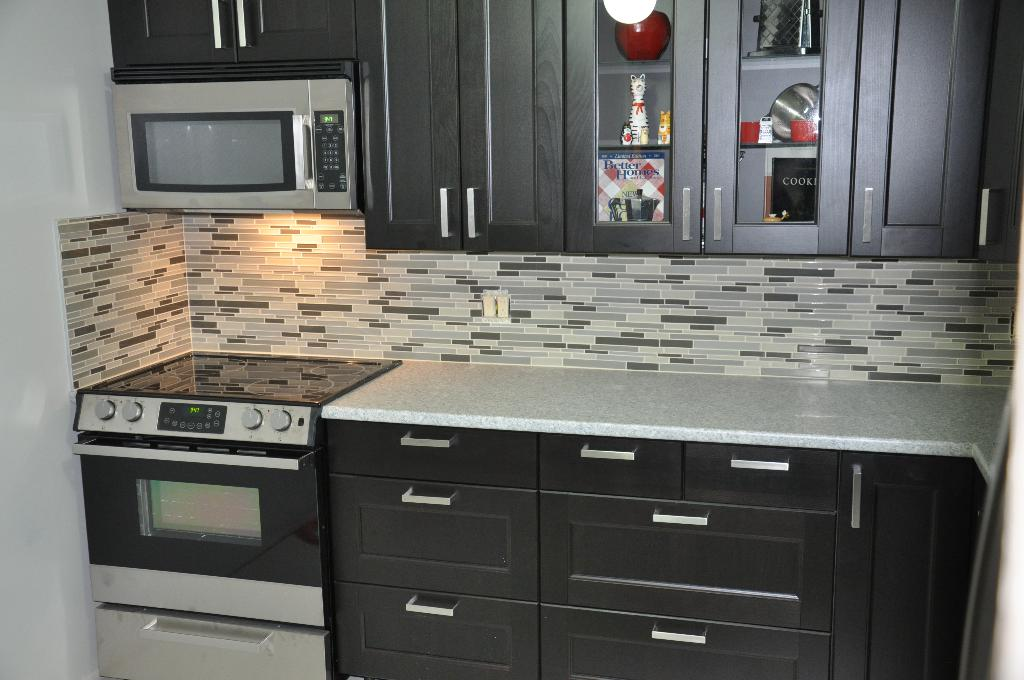cabinet door: (542, 495, 825, 620), (563, 9, 701, 250), (706, 26, 846, 250), (454, 11, 566, 247), (324, 481, 534, 597), (866, 18, 968, 241), (546, 605, 826, 680), (363, 7, 450, 241), (334, 596, 536, 679), (332, 420, 531, 485), (541, 433, 675, 494), (986, 39, 1024, 254), (230, 9, 354, 67), (689, 446, 809, 502), (113, 2, 226, 61), (841, 475, 873, 678)
handle: (71, 437, 302, 476), (648, 501, 713, 536), (728, 452, 802, 479), (843, 461, 870, 532), (396, 483, 463, 511), (582, 436, 638, 468), (394, 429, 460, 456), (402, 594, 463, 622), (647, 624, 712, 650), (706, 187, 734, 246), (428, 183, 454, 243), (977, 181, 999, 248), (462, 181, 481, 243), (232, 7, 254, 54), (862, 186, 878, 244), (200, 9, 221, 51), (678, 188, 694, 243)
